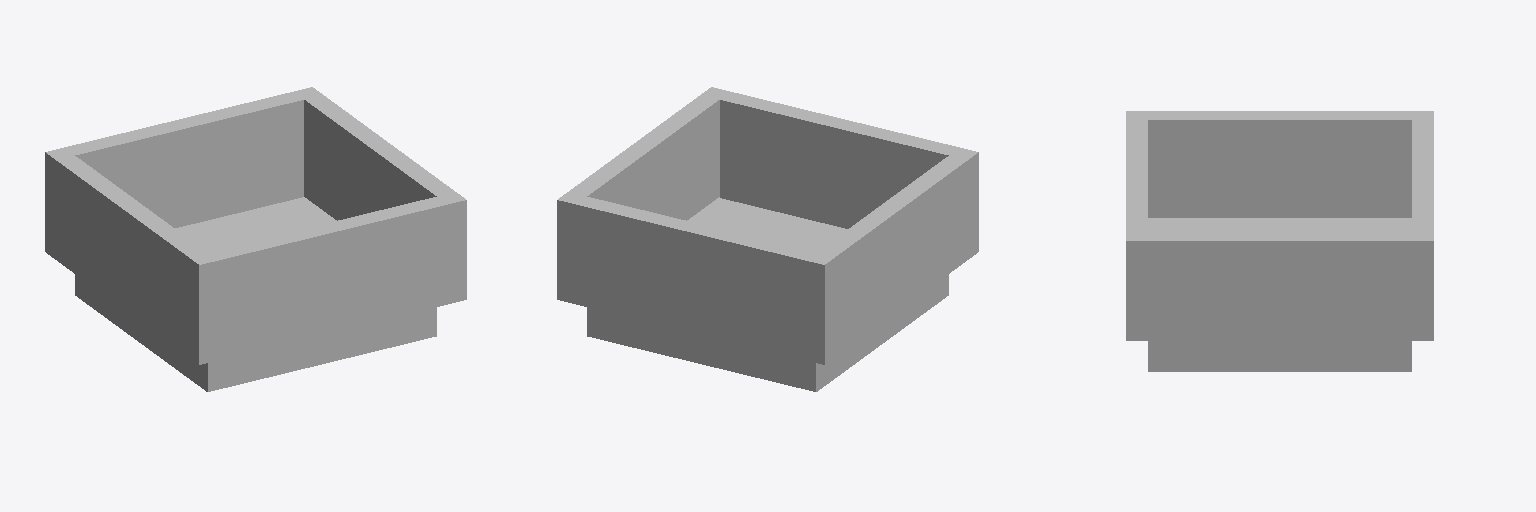
The model's file is dragon_hatchable_egg.obj.
3 renders of one model, left to right at view 1: azimuth 30°, elevation 25°; view 2: azimuth 150°, elevation 25°; view 3: azimuth 270°, elevation 25°, orthographic.
Parts seen in each view (by area): view 1: dragon_egg; view 2: dragon_egg; view 3: dragon_egg.
Boxes of the visible parts, box(x1,y1,x2,y2) form: dragon_egg: box(45, 87, 466, 391); dragon_egg: box(557, 87, 978, 391); dragon_egg: box(1126, 111, 1433, 371).
Bounding box in the file's own units: 0.875 × 0.5 × 0.875.